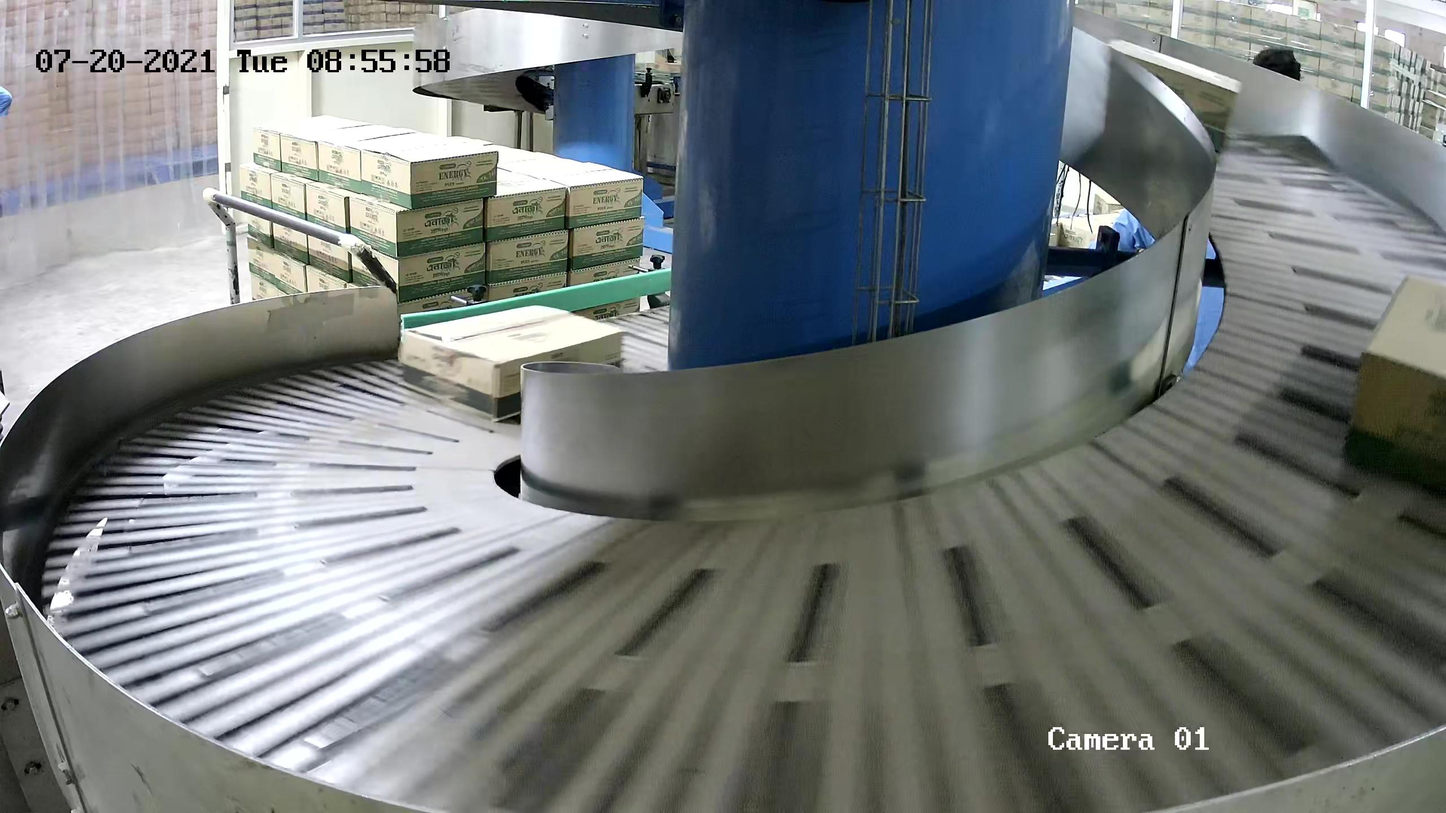Box: (399, 304, 628, 426), (1336, 271, 1446, 492), (1099, 40, 1245, 159)
